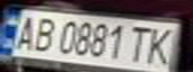0: (54, 17, 78, 56)
1: (106, 21, 130, 61)
8: (90, 20, 112, 60), (72, 19, 93, 57)
A: (9, 14, 42, 52)
B: (27, 15, 60, 53)
K: (139, 25, 181, 65)
T: (124, 24, 157, 64)
